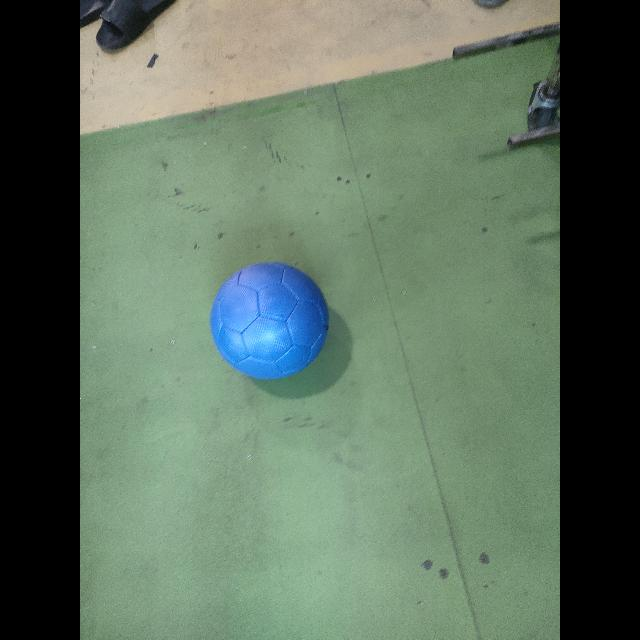B: (209, 263, 330, 383)
